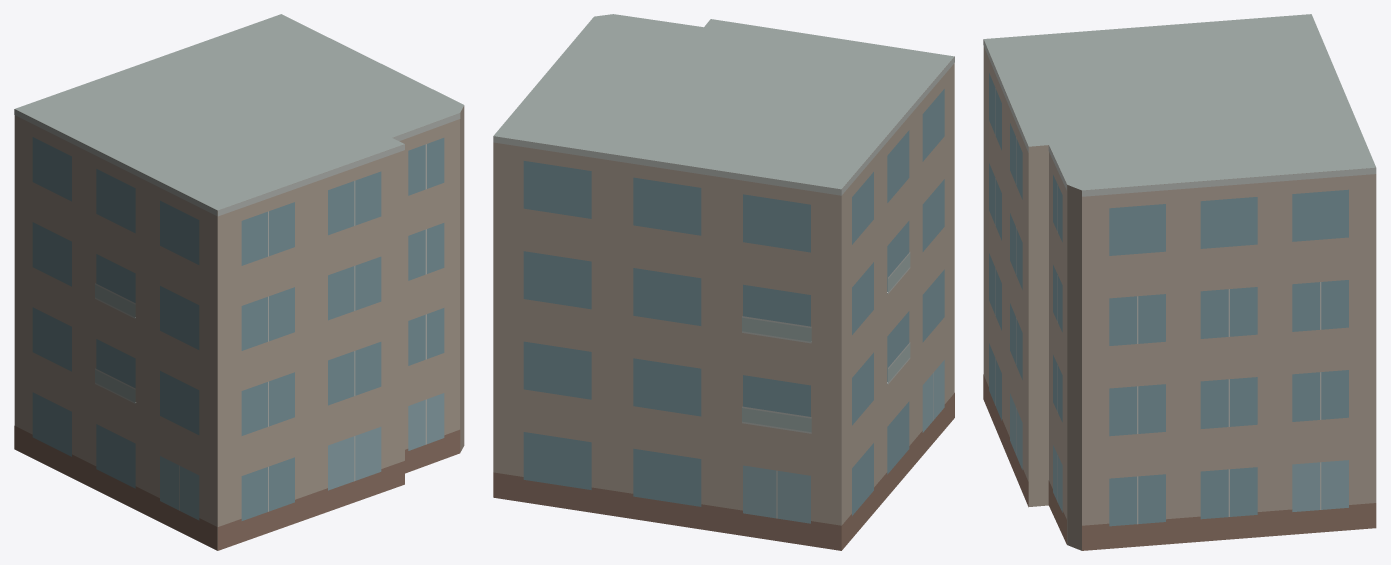
Rendered from survey-upis-32549621.glb.
The picture shows the model from 3 angles, left to right: view 1: azimuth 30°, elevation 25°; view 2: azimuth 150°, elevation 25°; view 3: azimuth 270°, elevation 25°; orthographic projection. The views are drawn at different scales.
Visible parts, largest first — view 1: survey-upis-32549621.tmp; view 2: survey-upis-32549621.tmp; view 3: survey-upis-32549621.tmp.
Boxes of the visible parts, <box> form: survey-upis-32549621.tmp: <box>14,14,464,550</box>; survey-upis-32549621.tmp: <box>493,14,954,550</box>; survey-upis-32549621.tmp: <box>983,14,1376,550</box>.
Bounding box in the file's own units: 14.55 × 13.85 × 13.69.
